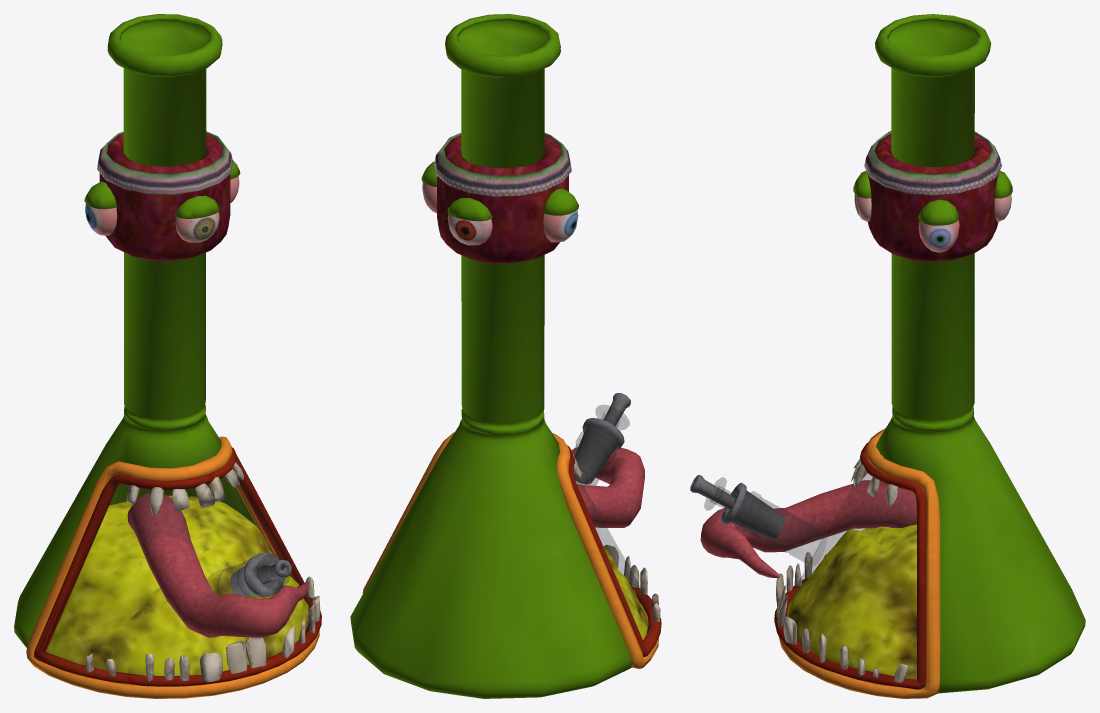
The model's file is bong.glb.
3 views of the same model, side by side, from view 1: azimuth 30°, elevation 25°; view 2: azimuth 150°, elevation 25°; view 3: azimuth 270°, elevation 25° (orthographic).
Parts seen in each view (by area): view 1: Bong.002_0; view 2: Bong.002_0; view 3: Bong.002_0.
Boxes of the visible parts, <box> form: Bong.002_0: <box>14,14,321,698</box>; Bong.002_0: <box>350,14,661,698</box>; Bong.002_0: <box>690,14,1085,698</box>.
Size of the model in its own units: 0.1578 by 0.3289 by 0.1956.
Materials: 2 (2 with a texture image).
